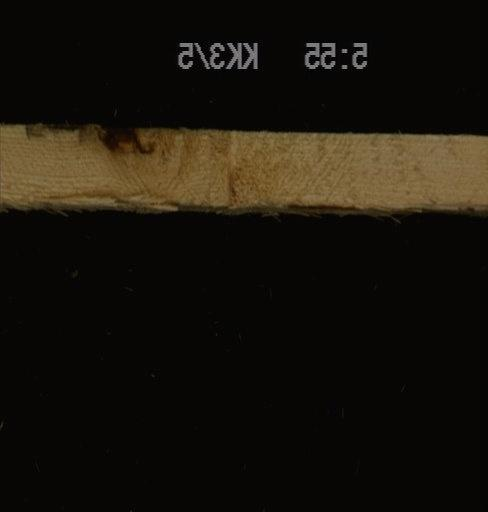edge_knot: (94, 125, 159, 159)
